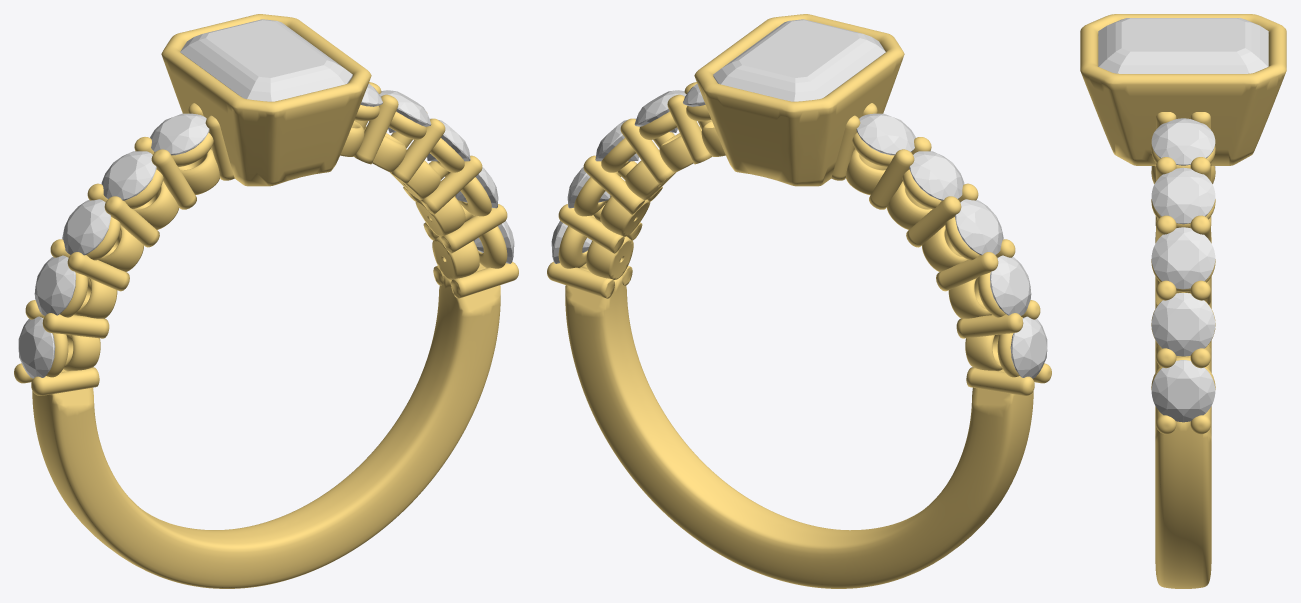
Rendered from diamond-emerald-yellowgold-bezelset-straightband-11stone.glb.
The picture shows the model from 3 angles, left to right: view 1: azimuth 30°, elevation 25°; view 2: azimuth 150°, elevation 25°; view 3: azimuth 270°, elevation 25°; orthographic projection.
Parts seen in each view (by area): view 1: metal.002, stone.001, side.014, side.015, side.013, side.016, side.001, side.018; view 2: metal.002, stone.001, side.014, side.015, side.013, side.016, side.001, side.018; view 3: metal.002, stone.001, side.020, side.021, side.019, side.018, side.017.
Boxes of the visible parts, x1,y1,x2,y2 form: metal.002: (14,14,518,588); stone.001: (180,19,352,101); side.014: (62,199,110,255); side.015: (101,151,156,200); side.013: (34,255,75,315); side.016: (150,113,209,155); side.001: (18,316,55,378); side.018: (379,90,431,132); metal.002: (547,14,1051,588); stone.001: (713,19,885,101); side.014: (955,199,1003,255); side.015: (909,151,964,200); side.013: (990,255,1031,315); side.016: (856,113,915,155); side.001: (1010,316,1047,378); side.018: (634,90,686,132); metal.002: (1080,14,1286,588); stone.001: (1098,18,1268,73); side.020: (1151,293,1215,356); side.021: (1151,360,1215,422); side.019: (1151,227,1215,289); side.018: (1151,167,1215,224); side.017: (1151,118,1215,165).
Size of the model in its own units: 22 by 22.94 by 8.11.
